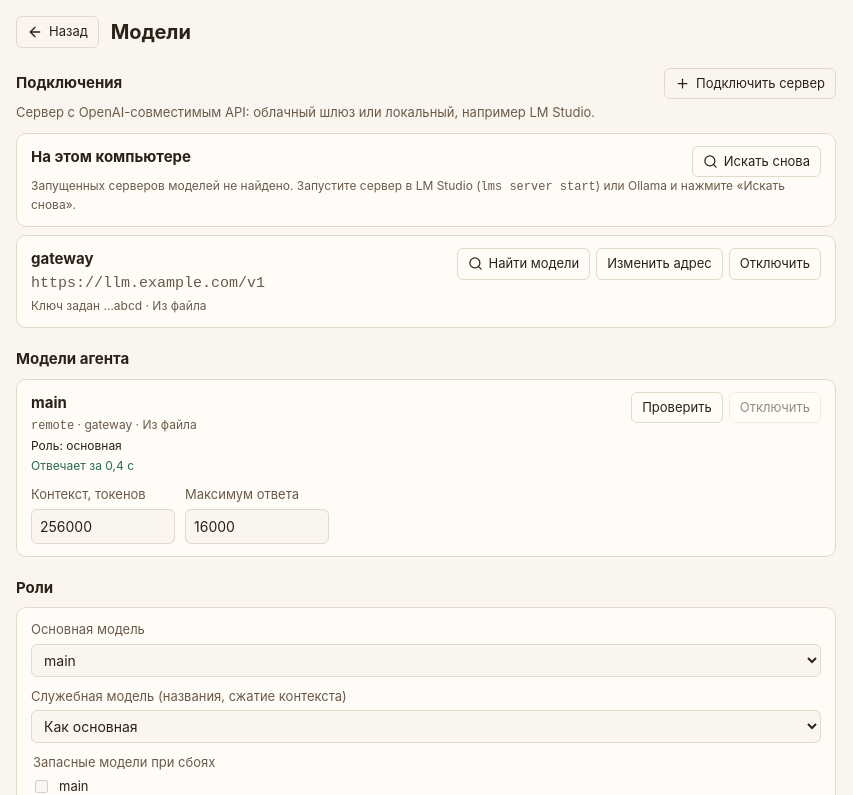
Test case: SettingsModelsView › offers only gateway models that answered a check
Click the button with test id "provider-discover" at [523, 264], box [457, 248, 590, 280]
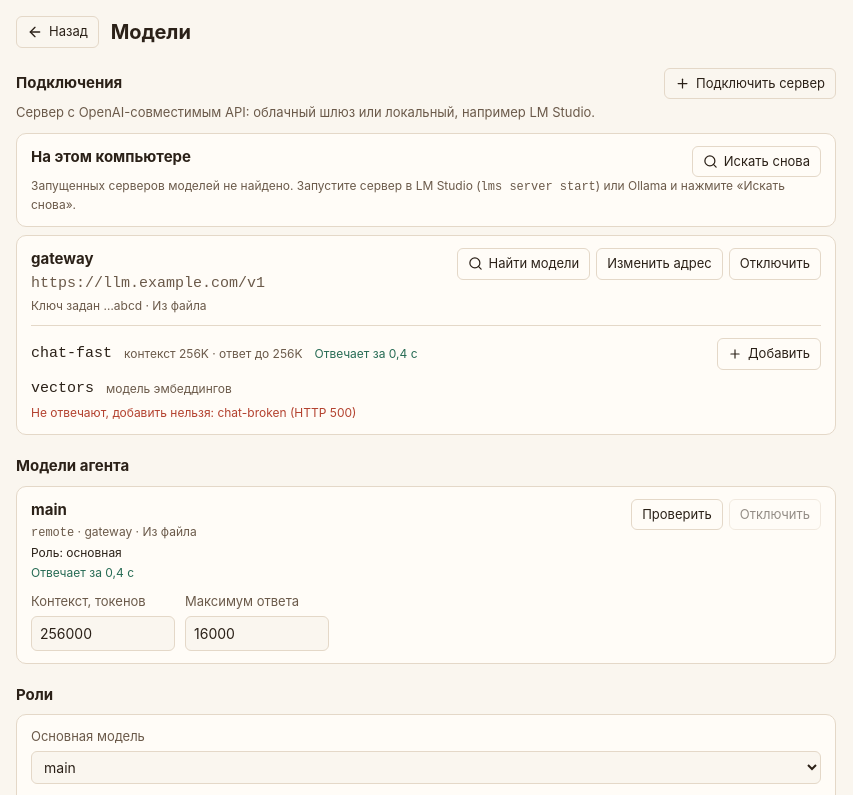
Now the text with test id "found-check" reads "Отвечает за 0,4 с", box [314, 346, 418, 361]
Now the button with test id "found-add" is shown, box [717, 338, 821, 370]
Now the text with test id "found-dead" shows "chat-broken (HTTP 500)", box [31, 405, 356, 420]
